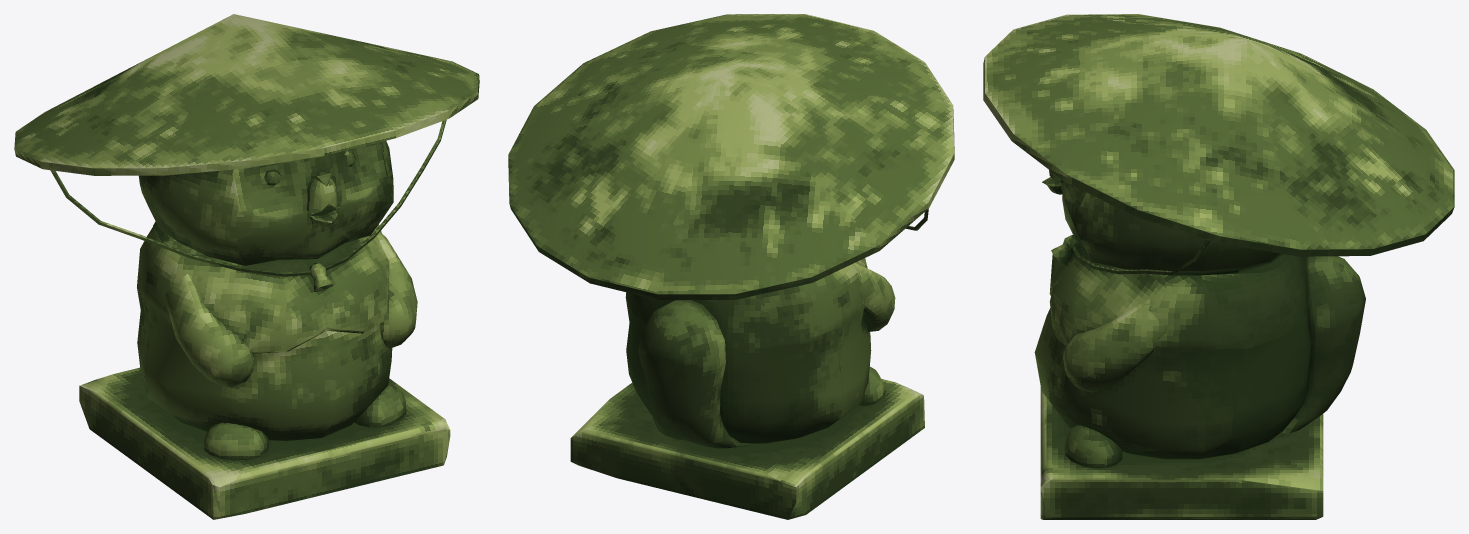
The model's file is tanuki_statue.glb.
3 views of the same model, side by side, from view 1: azimuth 30°, elevation 25°; view 2: azimuth 150°, elevation 25°; view 3: azimuth 270°, elevation 25° (orthographic). The views are drawn at different scales.
Parts seen in each view (by area): view 1: mesh; view 2: mesh; view 3: mesh.
Part boxes in pixels (<box>): mesh: <box>14,14,479,519</box>; mesh: <box>508,14,954,519</box>; mesh: <box>983,14,1454,519</box>.
Bounding box in the file's own units: 0.4238 × 0.4 × 0.4046.
Materials: 1 (1 with a texture image).
